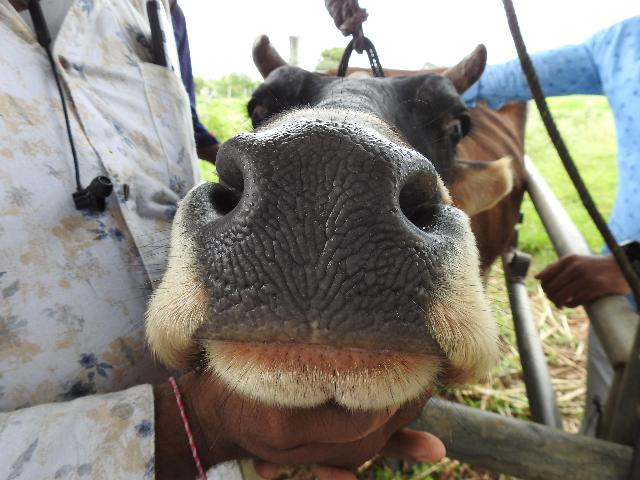Muzzle: (215, 138, 421, 342)
